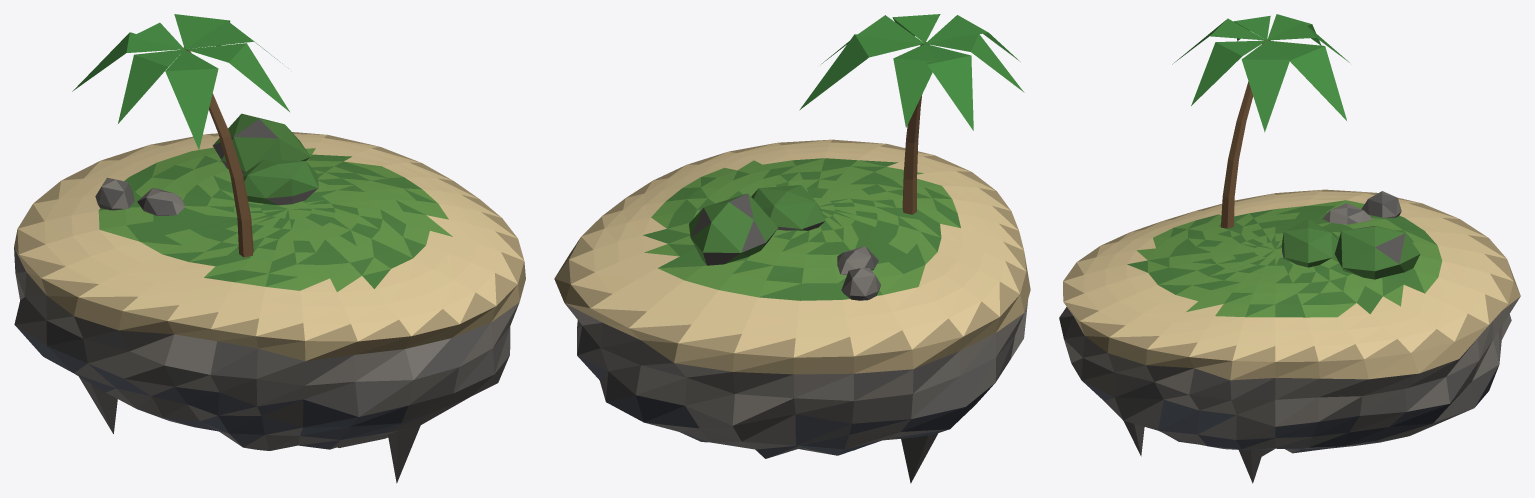
Rendered from island_sandbar.obj.
The picture shows the model from 3 angles, left to right: view 1: azimuth 30°, elevation 25°; view 2: azimuth 150°, elevation 25°; view 3: azimuth 270°, elevation 25°; orthographic projection. The views are drawn at different scales.
Visible parts, largest first — view 1: island_sandbar; view 2: island_sandbar; view 3: island_sandbar.
Part boxes in pixels (box(x1,y1,x2,y2)): island_sandbar: box(14, 14, 525, 483); island_sandbar: box(554, 14, 1030, 483); island_sandbar: box(1059, 14, 1520, 483).
Bounding box in the file's own units: 10.61 × 10.22 × 11.81.
Materials: 1 (1 with a texture image).
